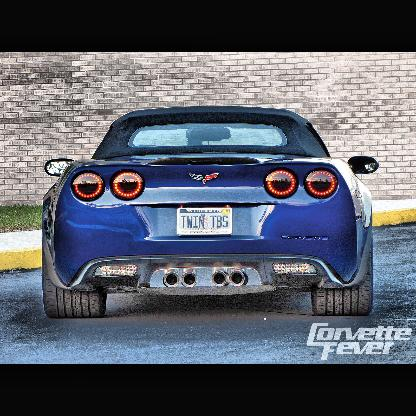Chevrolet Corvette Convertible 2012: (43, 107, 382, 317)
